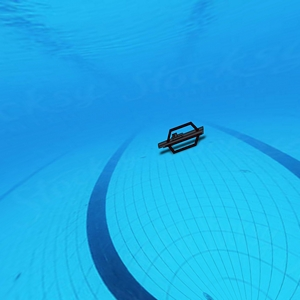submarine: (157, 120, 202, 159)
